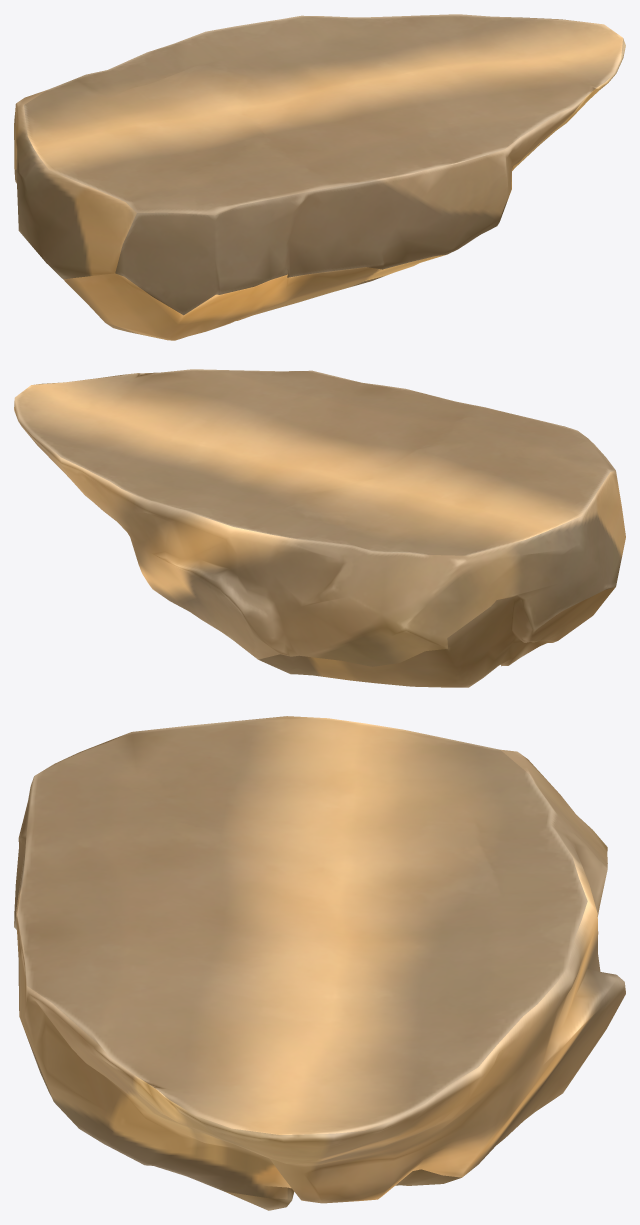
The model's file is SM_Cliff_03.fbx.
3 views of the same model, one above another, from view 1: azimuth 30°, elevation 25°; view 2: azimuth 150°, elevation 25°; view 3: azimuth 270°, elevation 25° (orthographic). The views are drawn at different scales.
Visible parts, largest first — view 1: SM_Cliff_03_LOD0; view 2: SM_Cliff_03_LOD0; view 3: SM_Cliff_03_LOD0.
Boxes of the visible parts, x1=… form: SM_Cliff_03_LOD0: x1=14, y1=14, x2=625, y2=340; SM_Cliff_03_LOD0: x1=14, y1=369, x2=625, y2=687; SM_Cliff_03_LOD0: x1=14, y1=716, x2=625, y2=1210.
Bounding box in the file's own units: 833 × 511 × 246.
